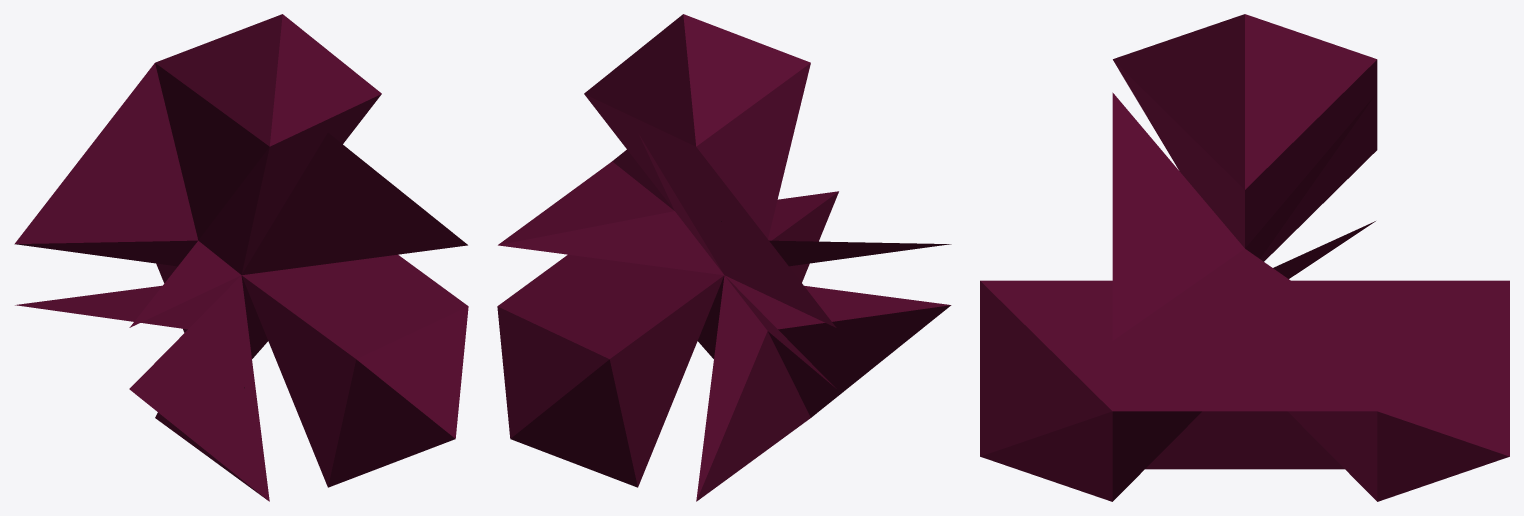
Rendered from enemy.obj.
3 renders of one model, left to right at view 1: azimuth 30°, elevation 25°; view 2: azimuth 150°, elevation 25°; view 3: azimuth 270°, elevation 25°, orthographic. The views are drawn at different scales.
Parts seen in each view (by area): view 1: enemy; view 2: enemy; view 3: enemy.
Part boxes in pixels (<box>): enemy: <box>14,14,468,501</box>; enemy: <box>497,14,951,501</box>; enemy: <box>980,14,1509,501</box>.
Size of the model in its own units: 2.41 by 2.91 by 2.83.
2 materials, 2 textured.
